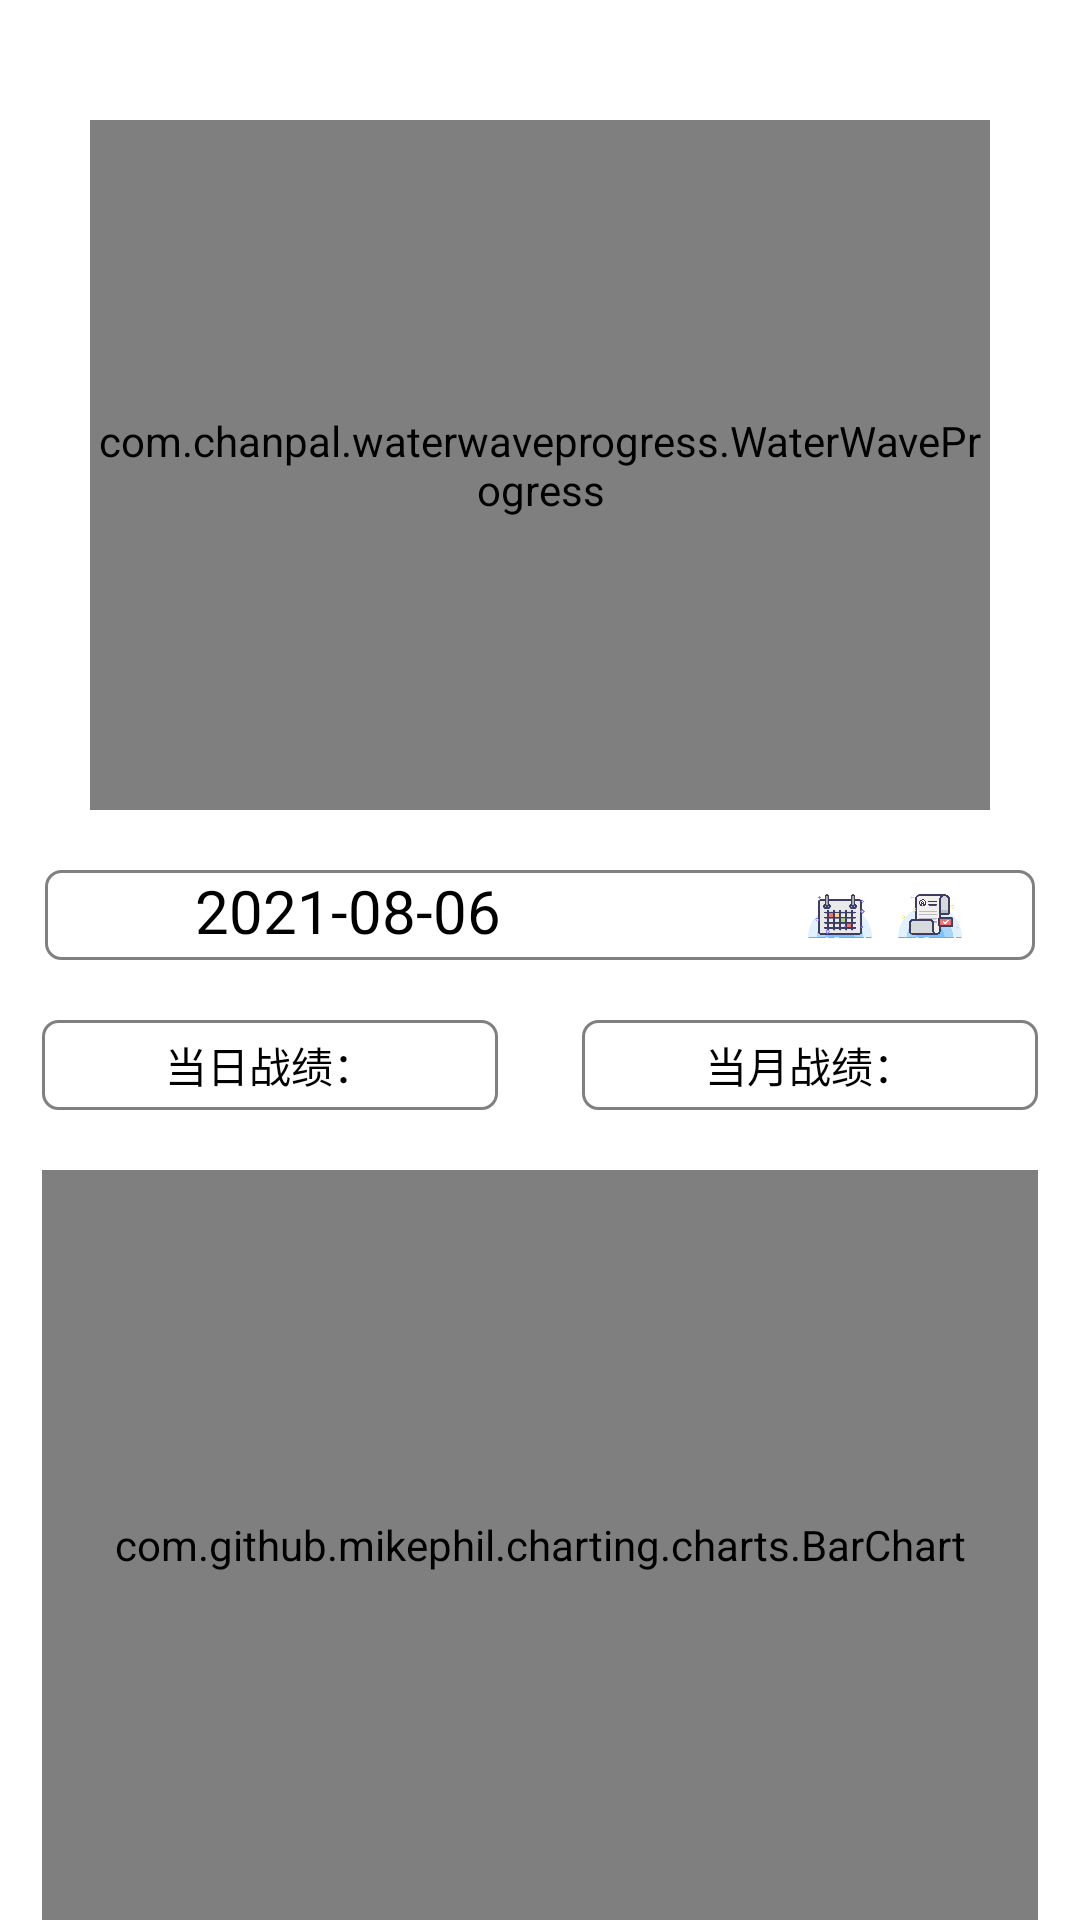

Icon click points for this 1080px×1920px phone screenshot, format point (x, y):
calendar: point (840, 916)
infomation: point (930, 916)
